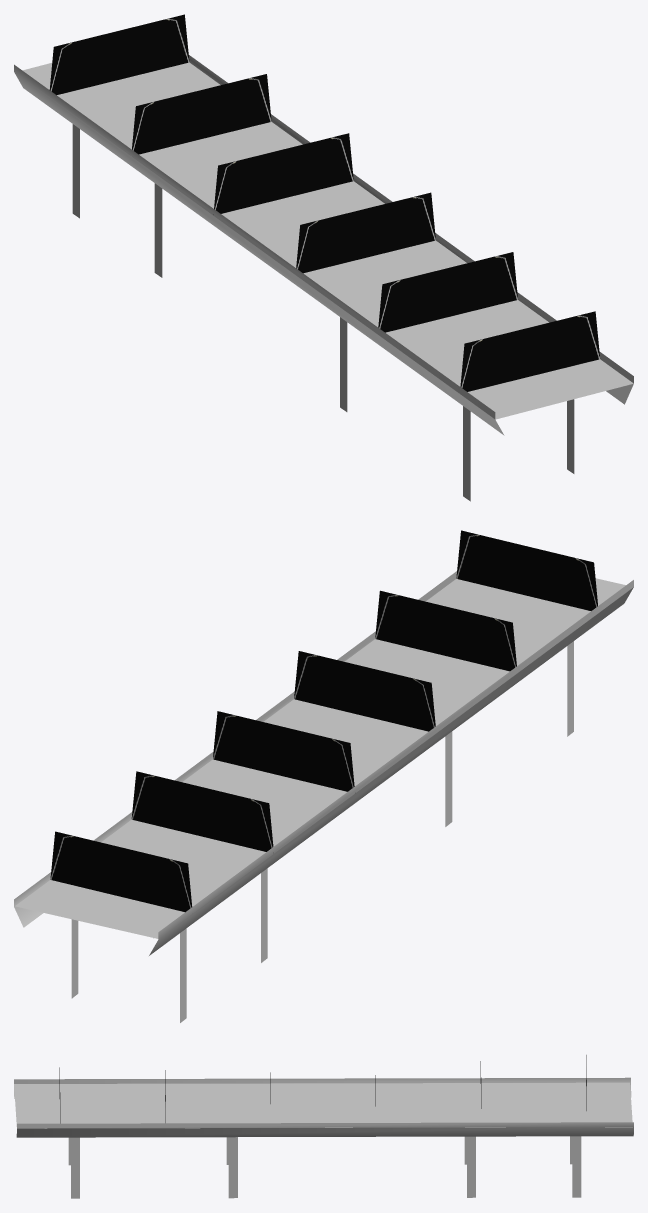
File: tiltas.obj
3 renders of one model, top to bottom at view 1: azimuth 30°, elevation 25°; view 2: azimuth 150°, elevation 25°; view 3: azimuth 270°, elevation 25°, orthographic. The views are drawn at different scales.
Visible parts, largest first — view 1: Mesh23_Component1_Model; view 2: Mesh23_Component1_Model; view 3: Mesh23_Component1_Model.
Part boxes in pixels (x1=…): Mesh23_Component1_Model: x1=14, y1=14, x2=633, y2=501; Mesh23_Component1_Model: x1=14, y1=530, x2=633, y2=1022; Mesh23_Component1_Model: x1=14, y1=1055, x2=633, y2=1198.
Bounding box in the file's own units: 30.98 × 33.79 × 177.
